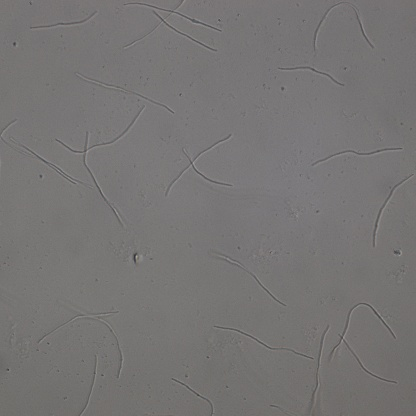Sensitive: (56, 104, 153, 235), (331, 301, 400, 390), (121, 1, 222, 56), (167, 133, 232, 197), (211, 252, 287, 305), (12, 138, 90, 187), (213, 326, 314, 359), (312, 2, 375, 52), (371, 173, 413, 246), (311, 144, 403, 166), (309, 325, 328, 416), (171, 377, 215, 416), (72, 355, 99, 416), (30, 10, 98, 32), (277, 66, 345, 87)
